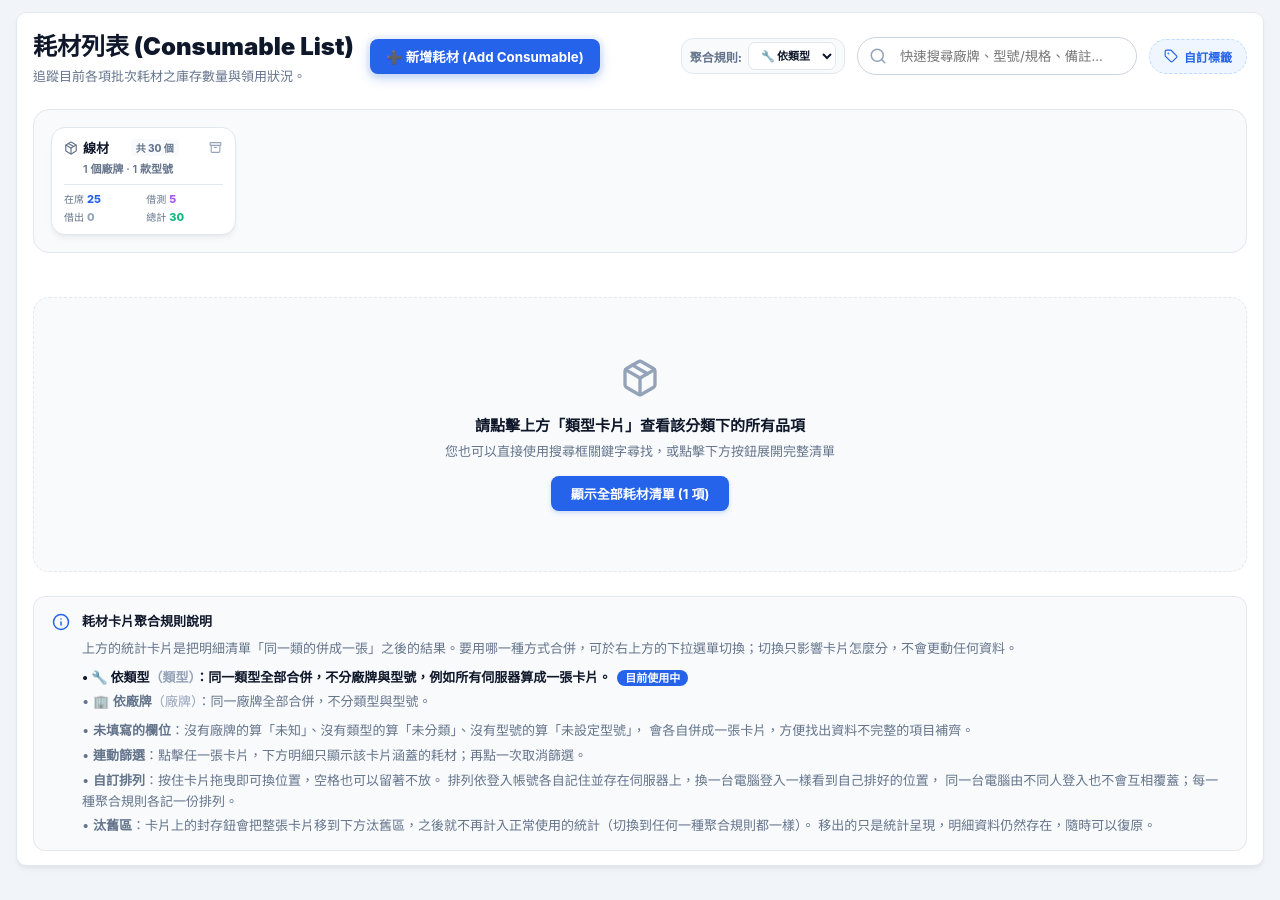
Test: 耗材模組移除單位 (Unit Removal) 測試 › 耗材清單表格與列表應呈現「備註」欄位標題，且不呈現「單位」欄位標題與資料格
Check: the heading "耗材列表 (Consumable List)" is shown, box top-left (33, 27), bottom-right (354, 62)
Click the button "顯示全部耗材清單 (1 項)".
click(640, 494)  # box top-left (551, 476), bottom-right (729, 511)
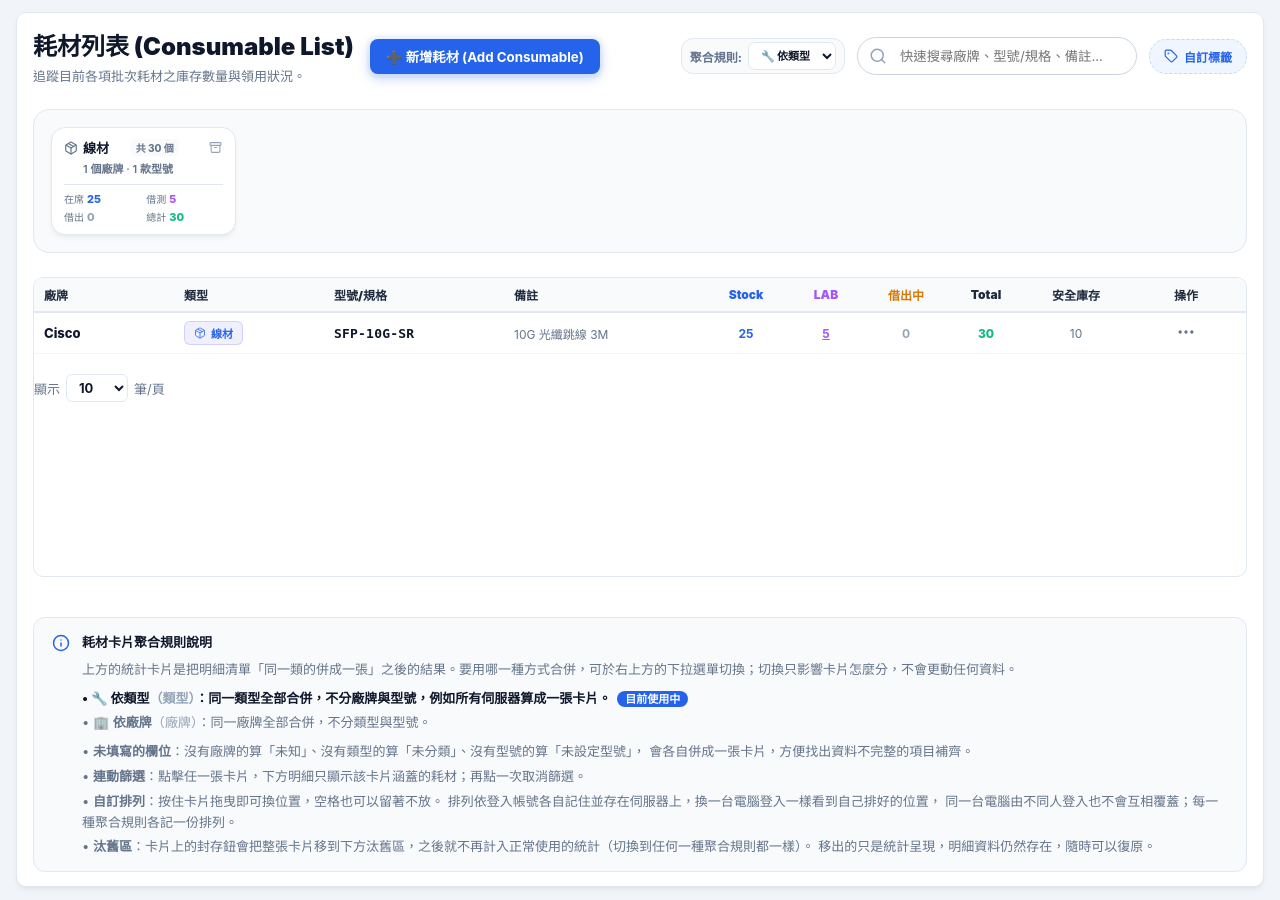
Check: the column heading "備註" is shown, box top-left (504, 278), bottom-right (706, 312)
Check: the column heading "Stock" is shown, box top-left (706, 278), bottom-right (786, 312)
Check: the column heading "LAB" is shown, box top-left (786, 278), bottom-right (866, 312)
